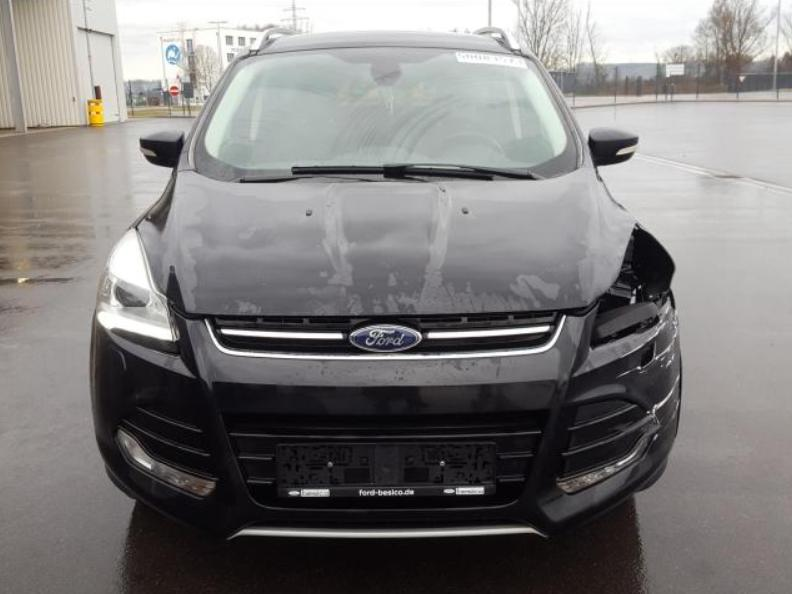Front-bumper: (89, 297, 682, 540)
Front-wheel: (105, 462, 138, 499), (637, 456, 668, 492)
Grille: (205, 311, 566, 359)
Headlight: (96, 229, 179, 354)
Hood: (135, 167, 638, 316)
Mirror: (588, 126, 637, 166), (139, 131, 184, 168)
Roof: (236, 26, 536, 59)
Windshield: (194, 47, 576, 182)
